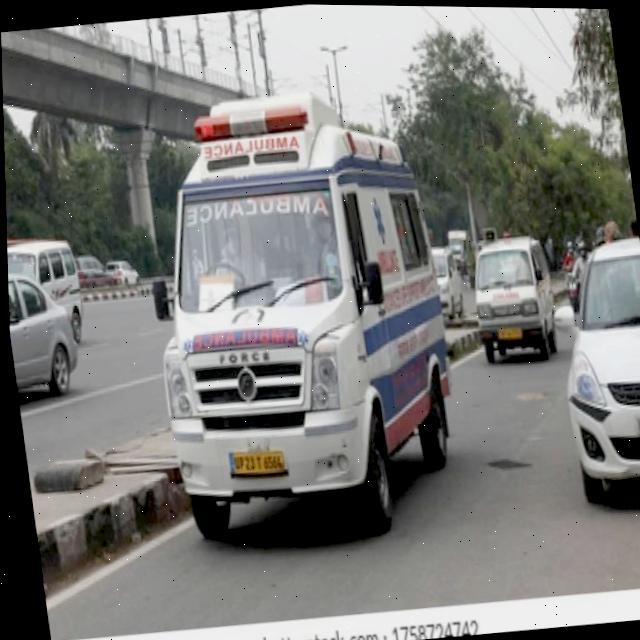emergency: (124, 76, 395, 544)
